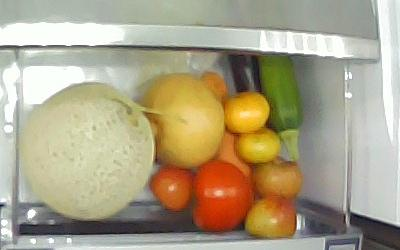carrot: (201, 70, 250, 176)
eggplant: (227, 53, 263, 96)
melon: (20, 81, 154, 220)
pear: (135, 73, 225, 168)
prune: (243, 192, 297, 238), (251, 156, 302, 201), (148, 164, 195, 212)
tangerine: (222, 90, 270, 133), (234, 126, 280, 162)
tomato: (190, 158, 255, 232)
zucchini: (257, 54, 302, 163)
